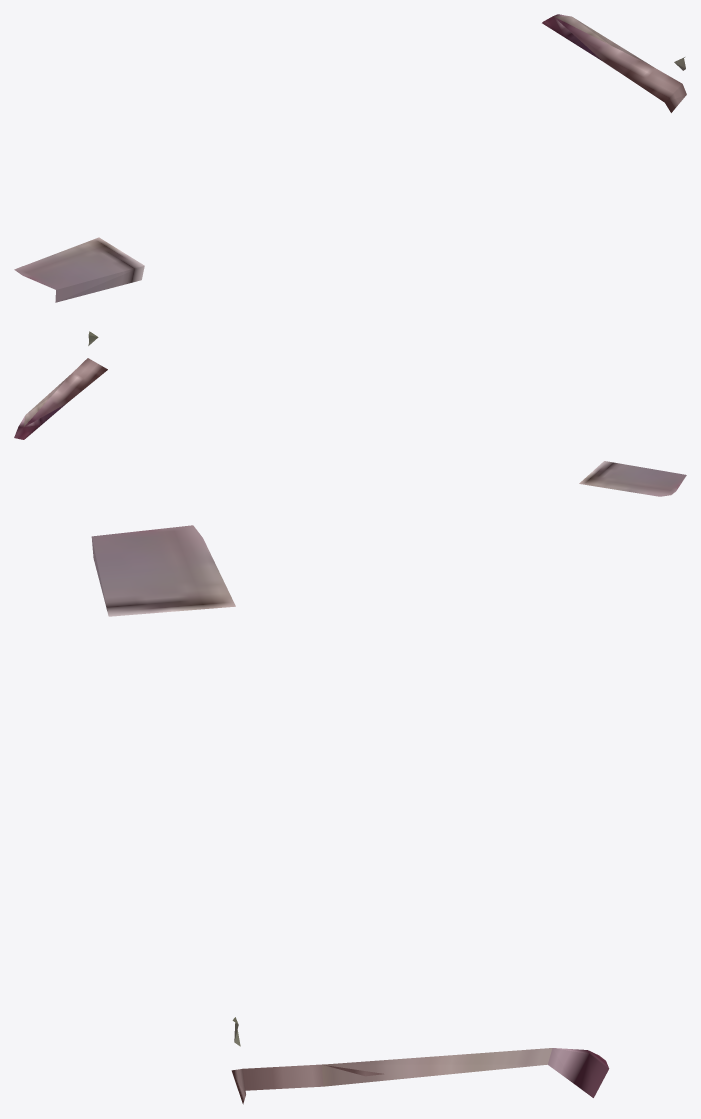
The picture shows the model from 3 angles, top to bottom: view 1: azimuth 30°, elevation 25°; view 2: azimuth 150°, elevation 25°; view 3: azimuth 270°, elevation 25°; orthographic projection. The views are drawn at different scales.
Parts seen in each view (by area): view 1: Mesh_0; view 2: Mesh_0; view 3: Mesh_0.
Boxes of the visible parts, bbox=[...] form: Mesh_0: bbox=[14, 14, 686, 302]; Mesh_0: bbox=[14, 331, 686, 496]; Mesh_0: bbox=[91, 525, 609, 1104].
Bounding box in the file's own units: 38.52 × 3.06 × 15.
1 material, 1 textured.
